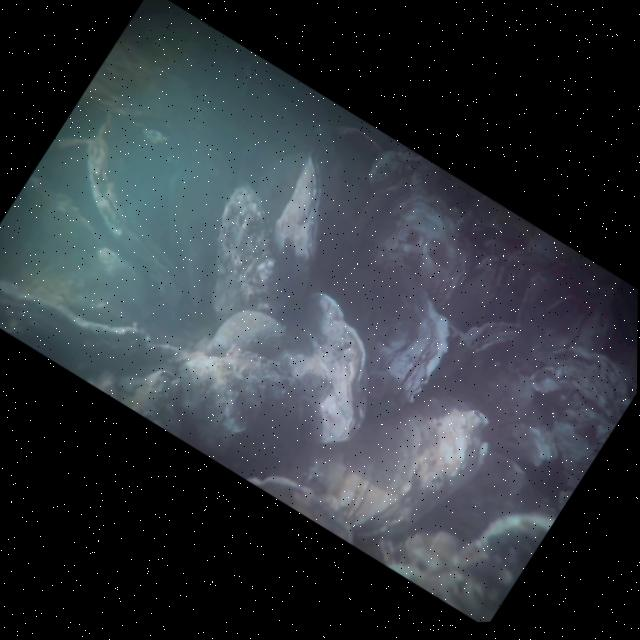Oyster-Closed: (296, 392, 485, 535), (84, 111, 190, 310), (295, 286, 375, 452), (206, 181, 286, 322), (271, 148, 329, 309)
Oyster-Indeterminate: (346, 269, 451, 423), (354, 194, 476, 306), (465, 317, 528, 368)
